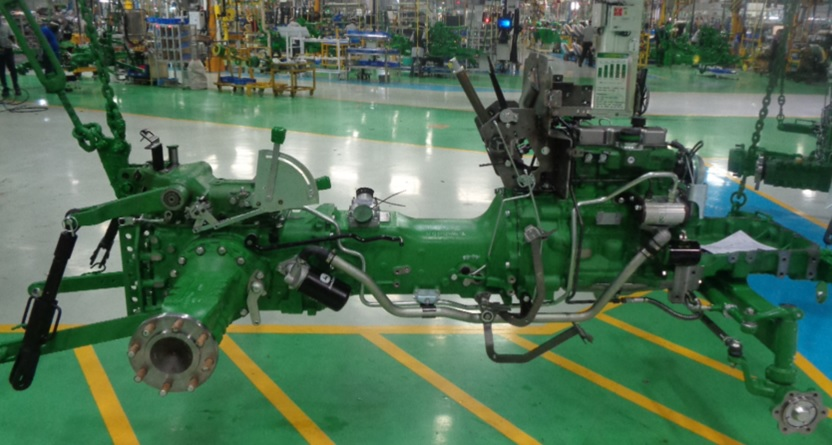engine: (5, 51, 829, 437)
